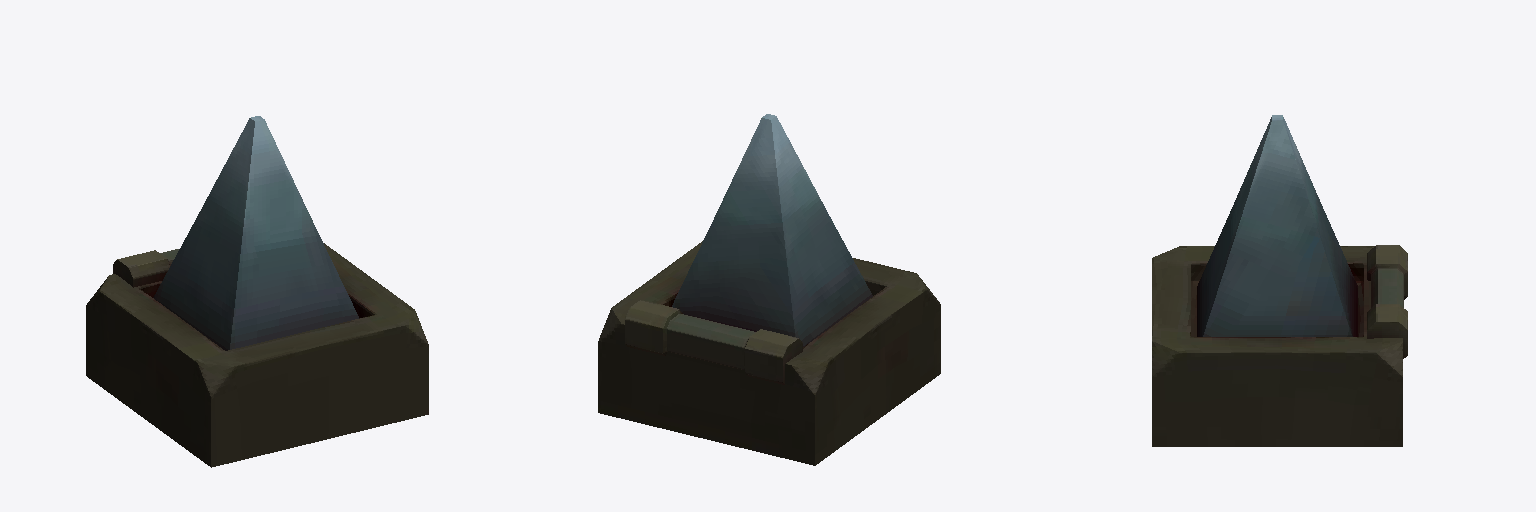
3 renders of one model, left to right at view 1: azimuth 30°, elevation 25°; view 2: azimuth 150°, elevation 25°; view 3: azimuth 270°, elevation 25°, orthographic.
Parts seen in each view (by area): view 1: OBJ_Trigger_B_01, OBJ_Trigger_B_02; view 2: OBJ_Trigger_B_01, OBJ_Trigger_B_02; view 3: OBJ_Trigger_B_01, OBJ_Trigger_B_02.
Boxes of the visible parts, box(x1,y1,x2,y2) form: OBJ_Trigger_B_01: box(86, 243, 428, 467); OBJ_Trigger_B_02: box(153, 116, 358, 350); OBJ_Trigger_B_01: box(598, 241, 940, 465); OBJ_Trigger_B_02: box(672, 114, 872, 346); OBJ_Trigger_B_01: box(1152, 245, 1407, 446); OBJ_Trigger_B_02: box(1197, 115, 1357, 336).
Size of the model in its own units: 1.2 by 1.46 by 1.22.
Materials: 1 (1 with a texture image).